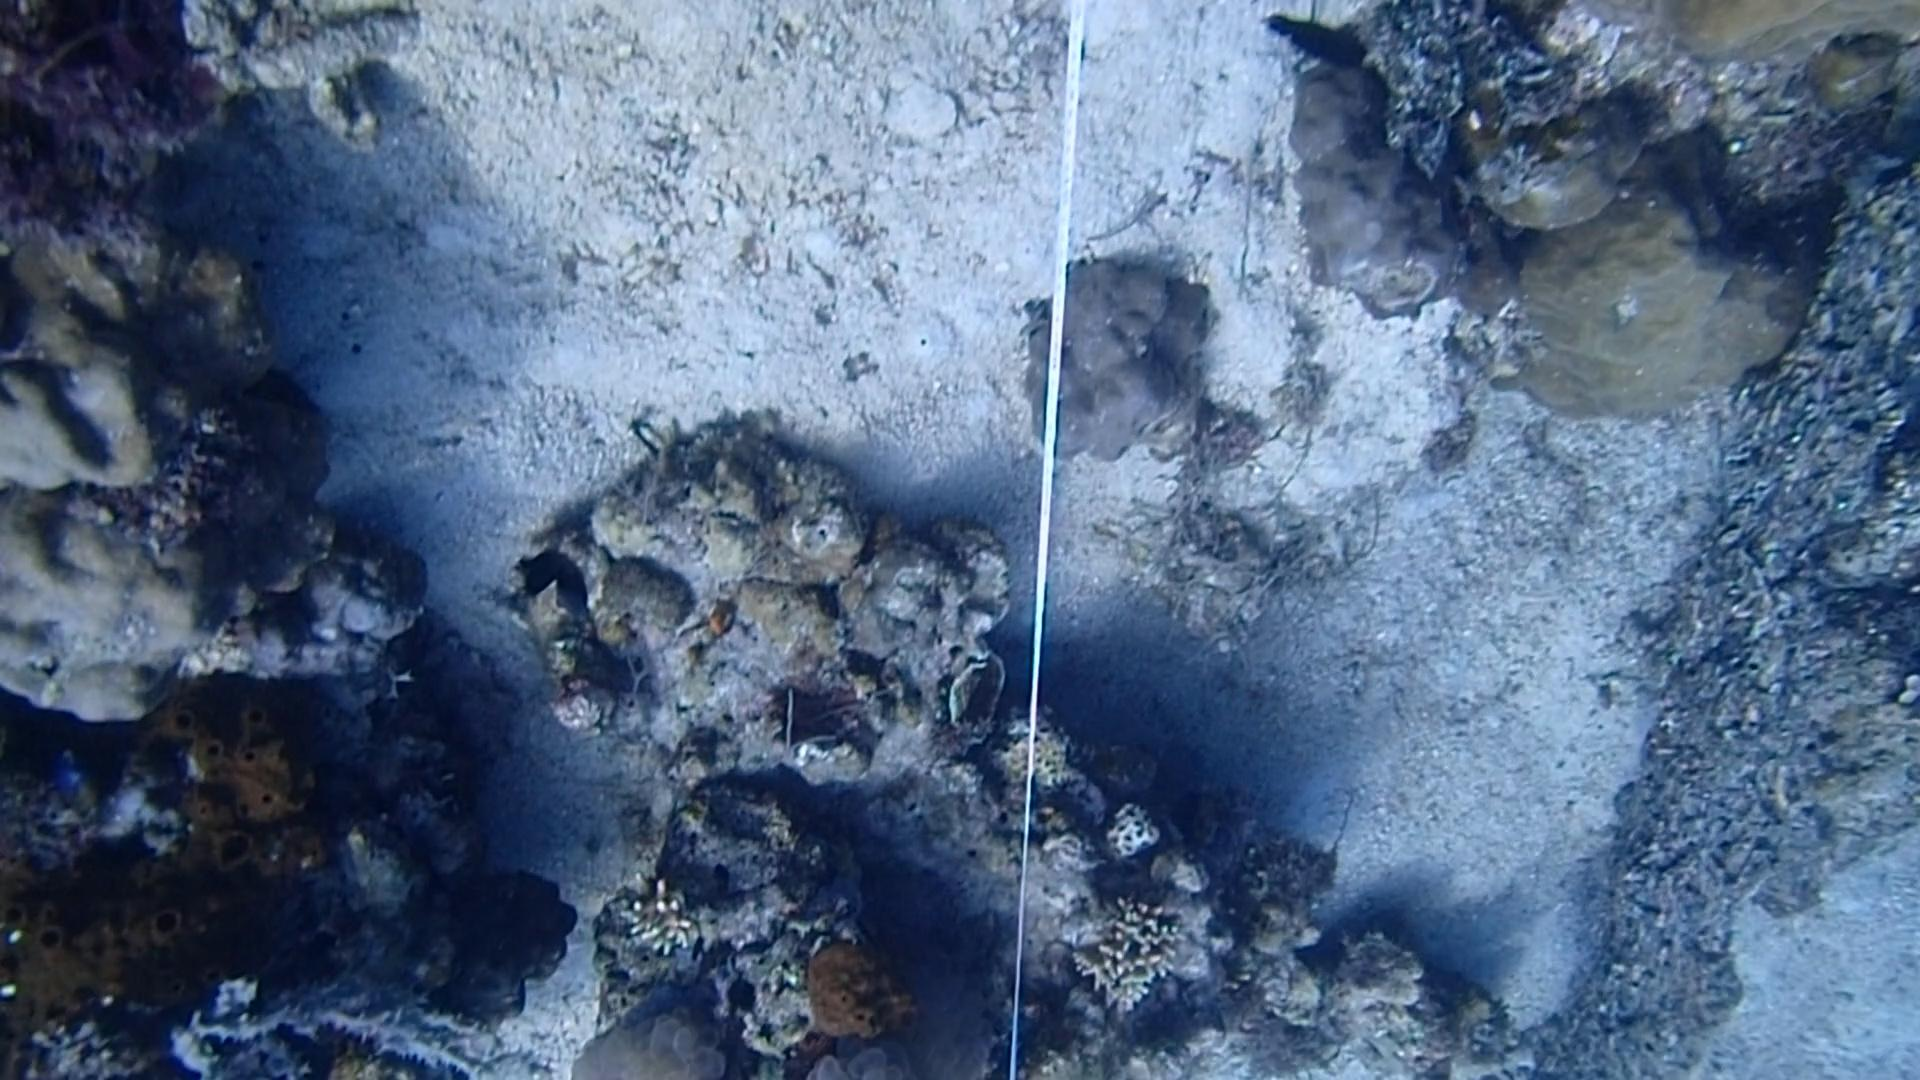Big Dark Blue Fish: (502, 533, 609, 625)
Dark Fish: (1259, 11, 1367, 84)
